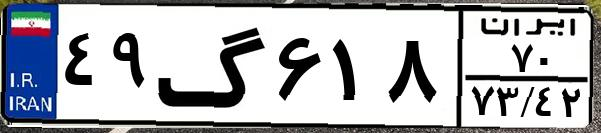0: (537, 27, 568, 80)
1: (330, 28, 385, 110)
2: (560, 70, 590, 125)
3: (495, 70, 520, 125)
4: (57, 26, 110, 100), (535, 70, 560, 125)
6: (270, 28, 330, 110)
7: (508, 27, 537, 80), (470, 70, 495, 125)
8: (385, 28, 445, 110)
9: (110, 28, 156, 98)
گ: (156, 12, 270, 120)
